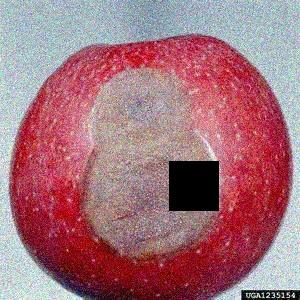rotten apple: (6, 32, 294, 298)
